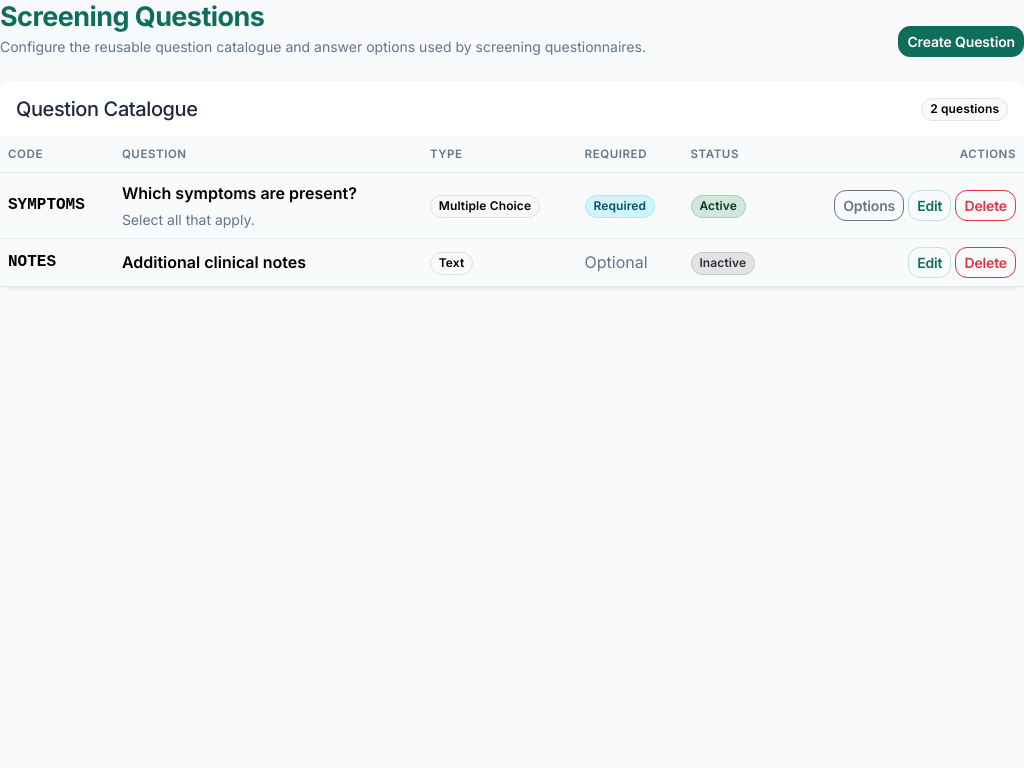
ScreeningQuestionsPage › requires confirmation before deleting a question
Click the button with aria-label "Delete SYMPTOMS" at (986, 205), box [955, 190, 1016, 221]
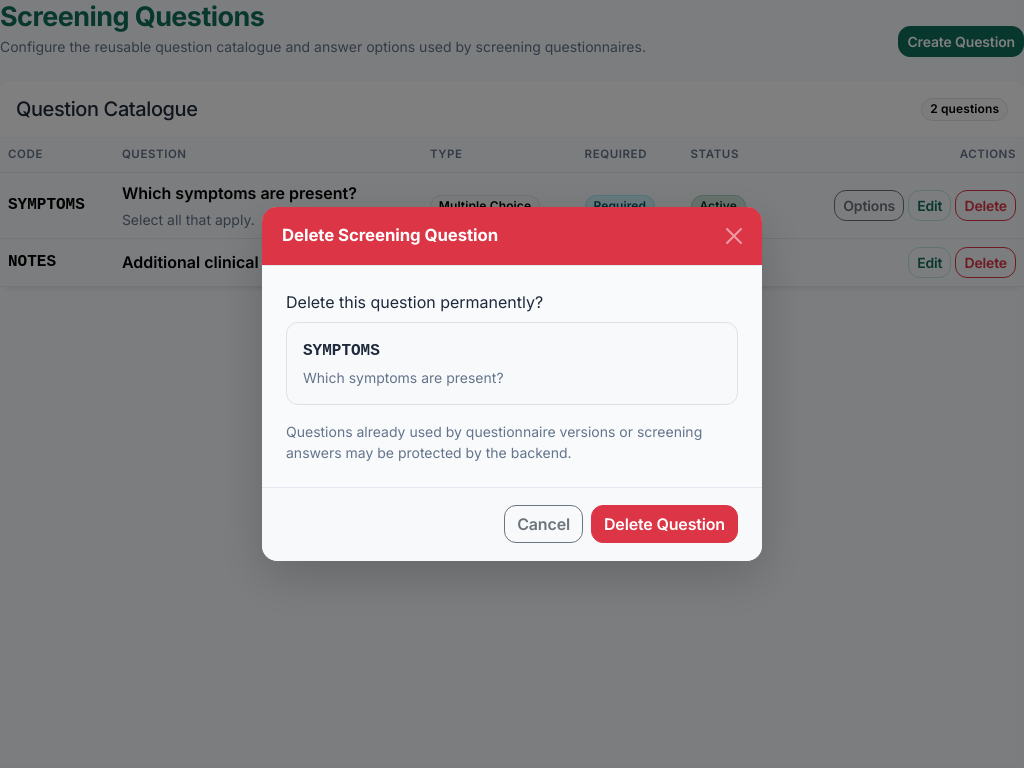
Click the button "Delete Question" at (664, 524), box [591, 505, 738, 543]
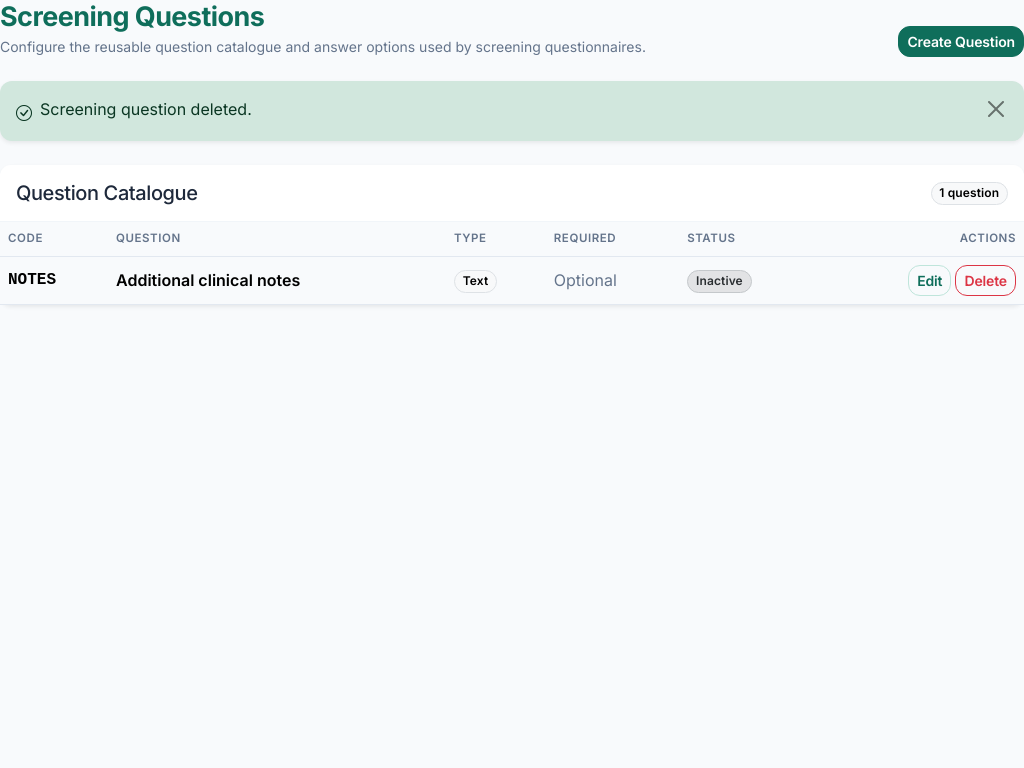
Result: the text "Which symptoms are present?" is gone
